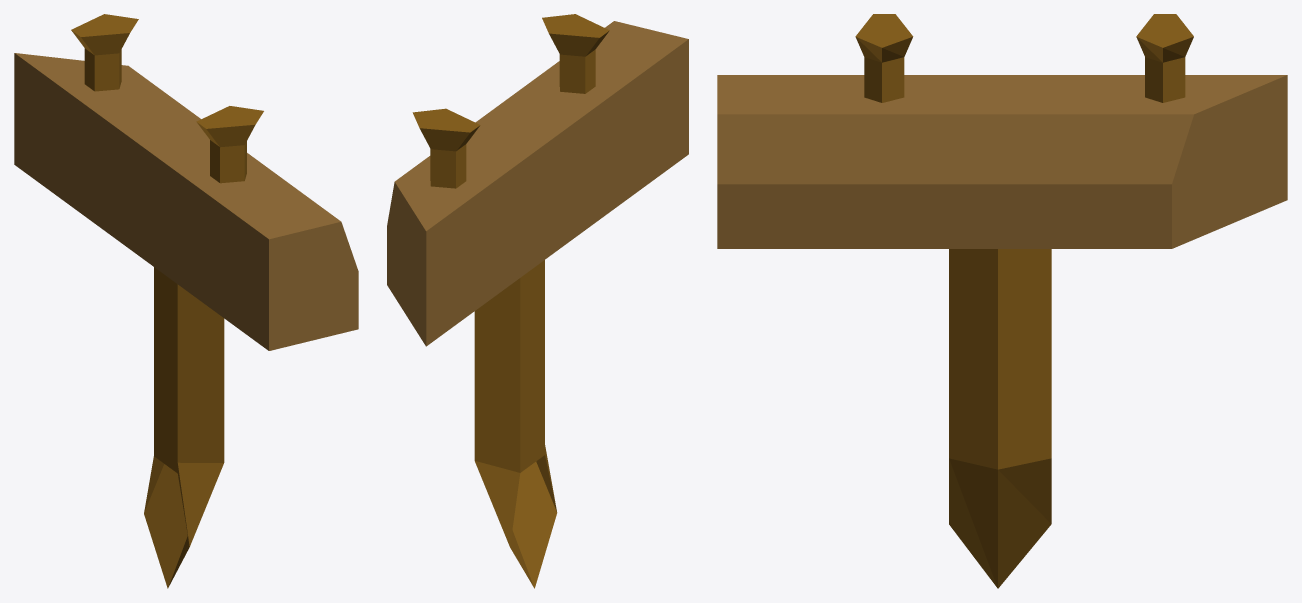
3 renders of one model, left to right at view 1: azimuth 30°, elevation 25°; view 2: azimuth 150°, elevation 25°; view 3: azimuth 270°, elevation 25°, orthographic. The views are drawn at different scales.
Bounding box in the file's own units: 0.2031 × 1.09 × 1.
